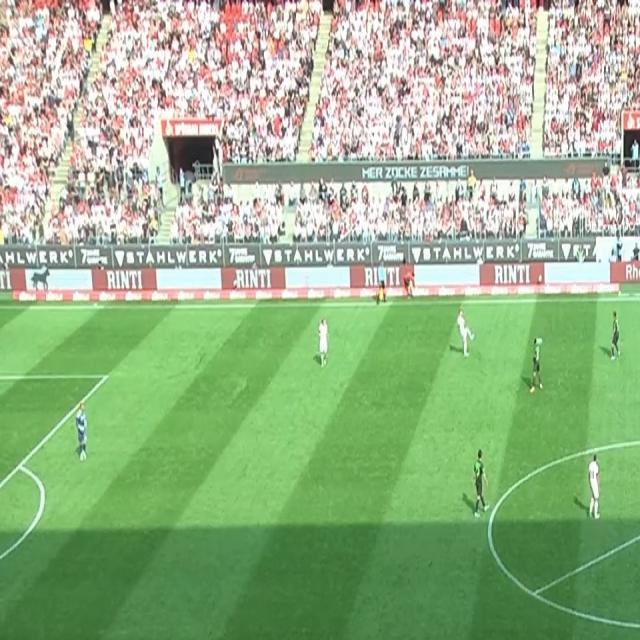ball: (535, 336, 543, 345)
